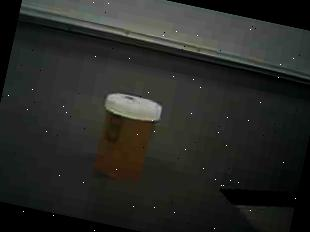Bottle B: (81, 84, 172, 193)
